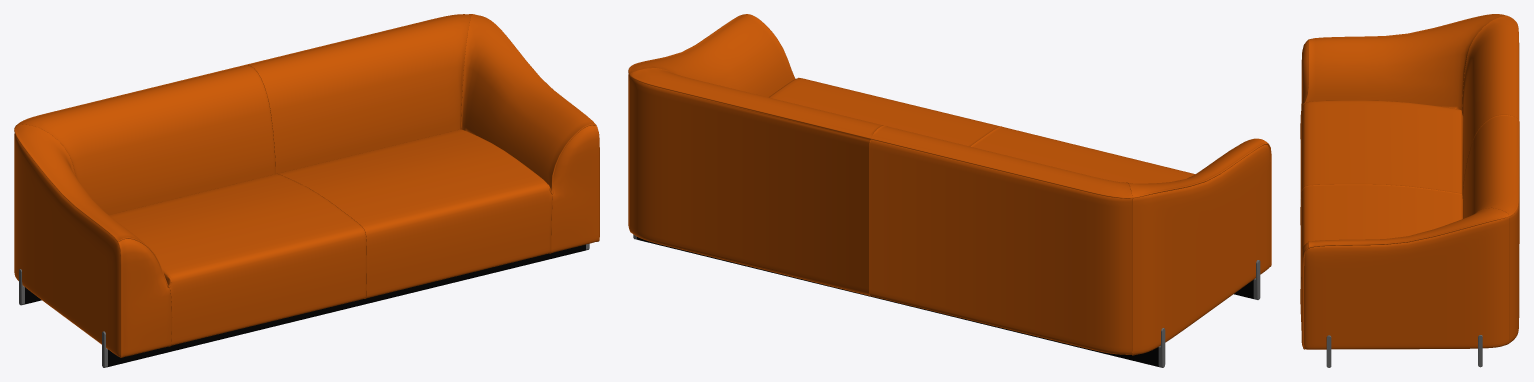
Rendered from ligne_roset_snowdonia_large_settee_main_03_fbx_upZ.fbx.
3 views of the same model, side by side, from view 1: azimuth 30°, elevation 25°; view 2: azimuth 150°, elevation 25°; view 3: azimuth 270°, elevation 25° (orthographic). The views are drawn at different scales.
Visible parts, largest first — view 1: ligne_roset_snowdonia_large_settee; view 2: ligne_roset_snowdonia_large_settee; view 3: ligne_roset_snowdonia_large_settee.
Part boxes in pixels (x1,y1,x2,y2): ligne_roset_snowdonia_large_settee: (14, 14, 599, 367); ligne_roset_snowdonia_large_settee: (628, 14, 1271, 367); ligne_roset_snowdonia_large_settee: (1300, 14, 1519, 367).
Size of the model in its own units: 211 by 92.78 by 70.02.
